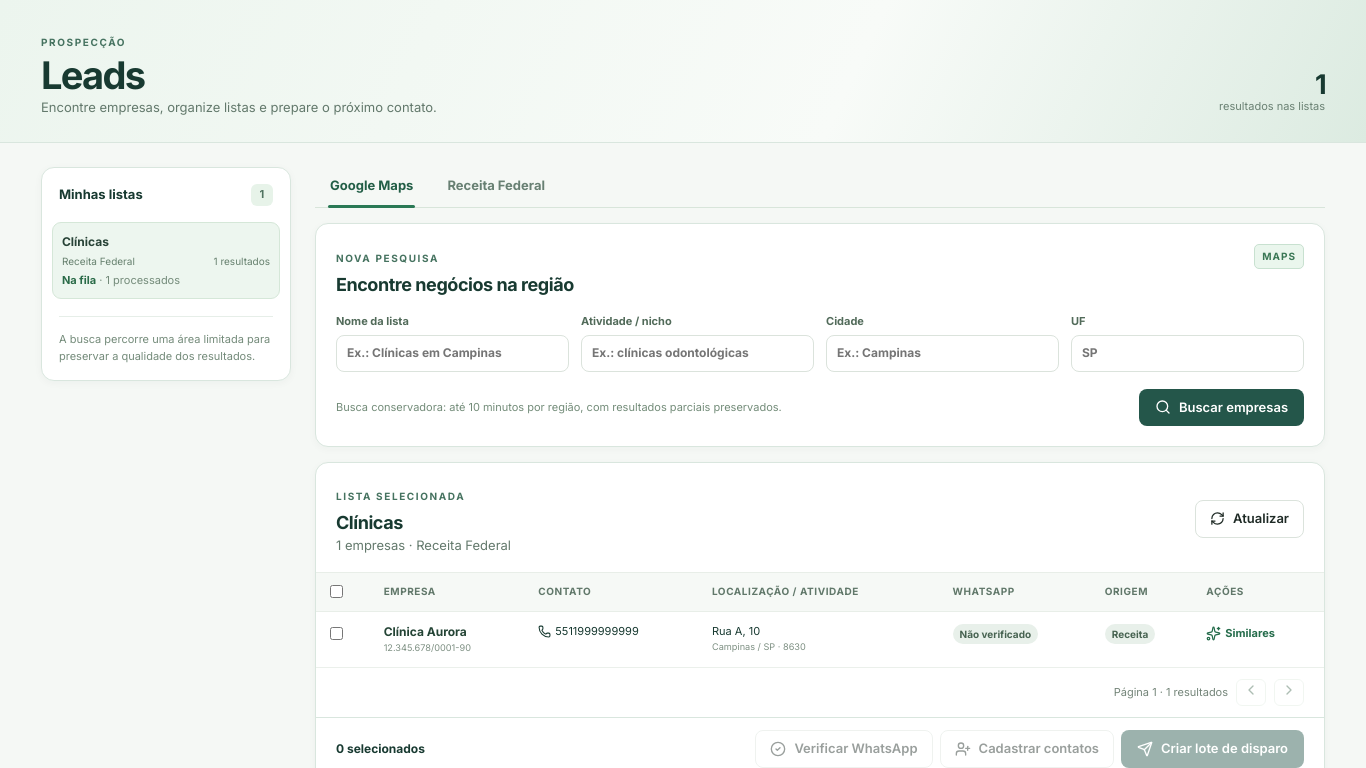
Scenario: LeadsPage › shows unverified status and requires selected-count confirmation before importing
Click the checkbox named "Selecionar Clínica Aurora" at coordinates (336, 633), box [330,626,343,640]
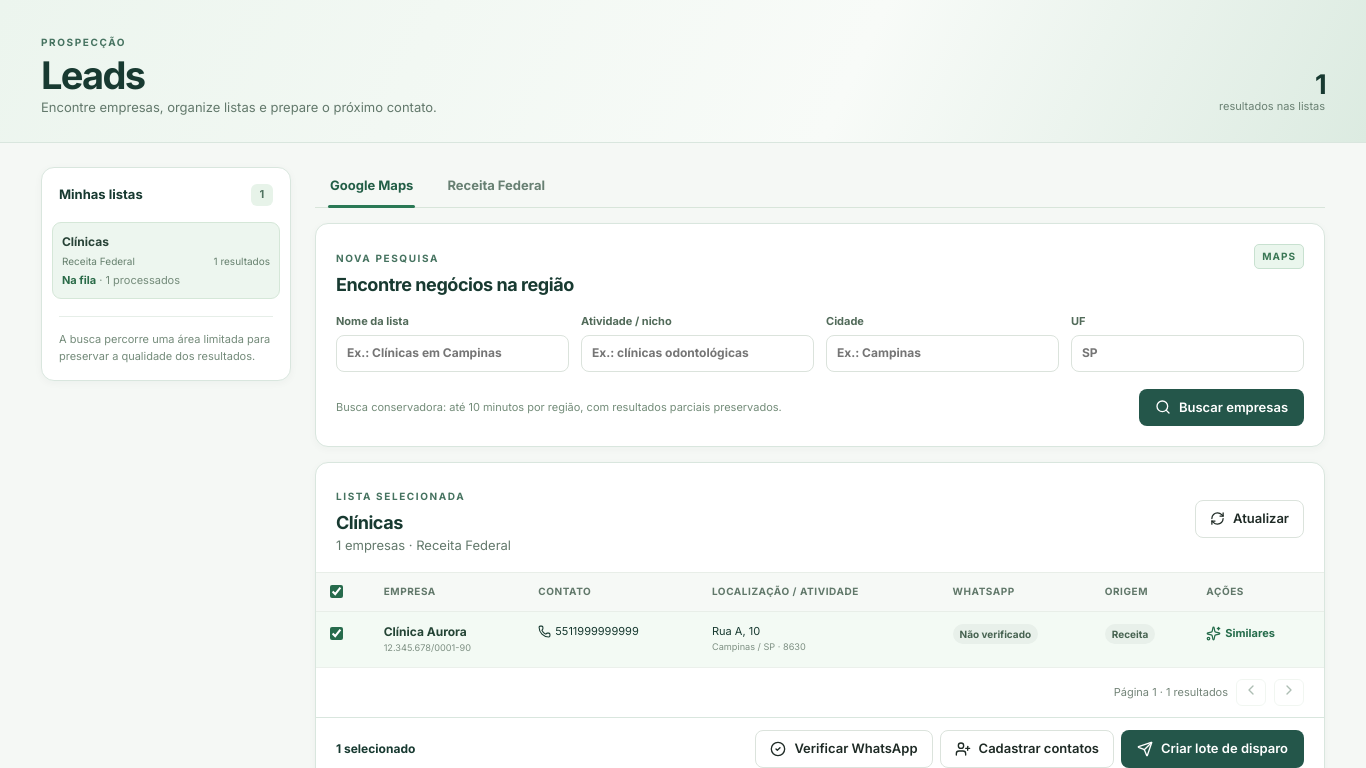
Click the button "Cadastrar contatos" at coordinates (1027, 749), box [940,730,1114,767]
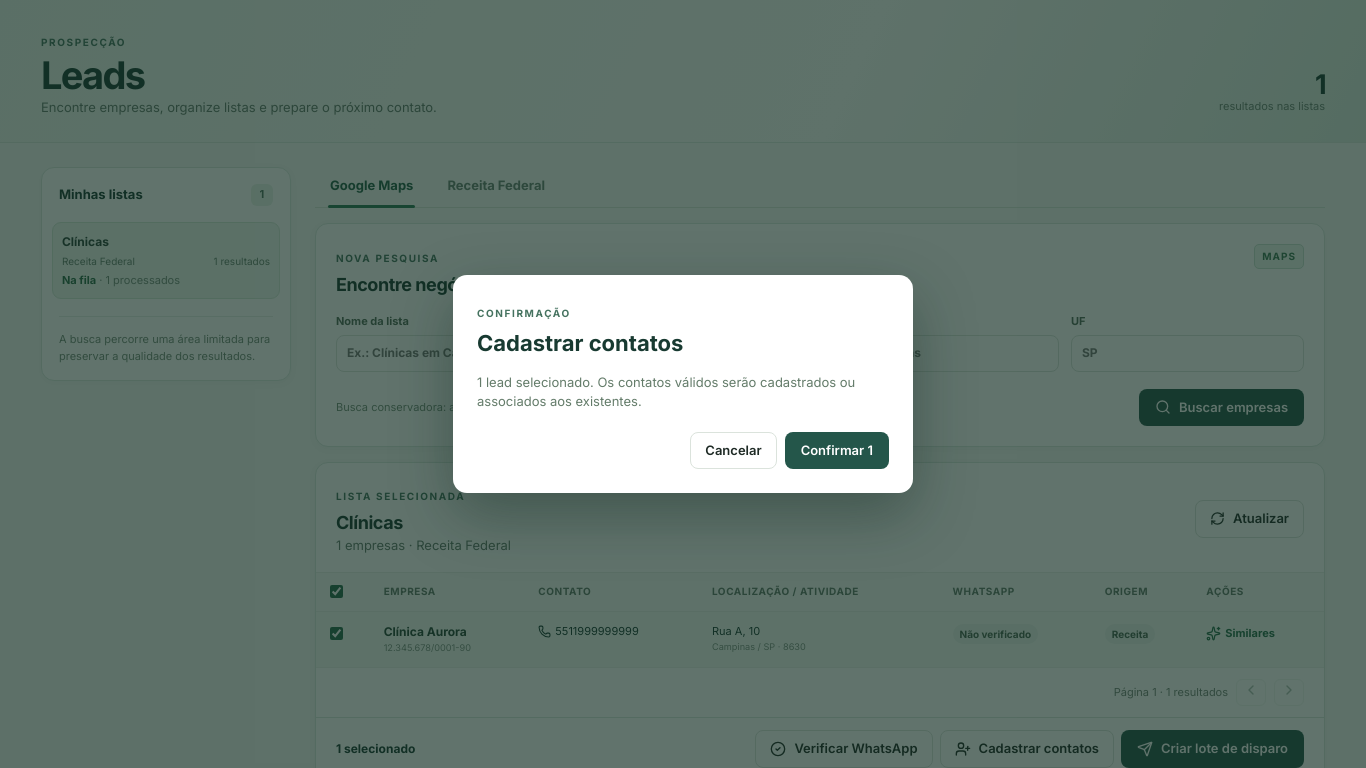
Check: the dialog shows "1 lead selecionado", box [453,275,913,493]
